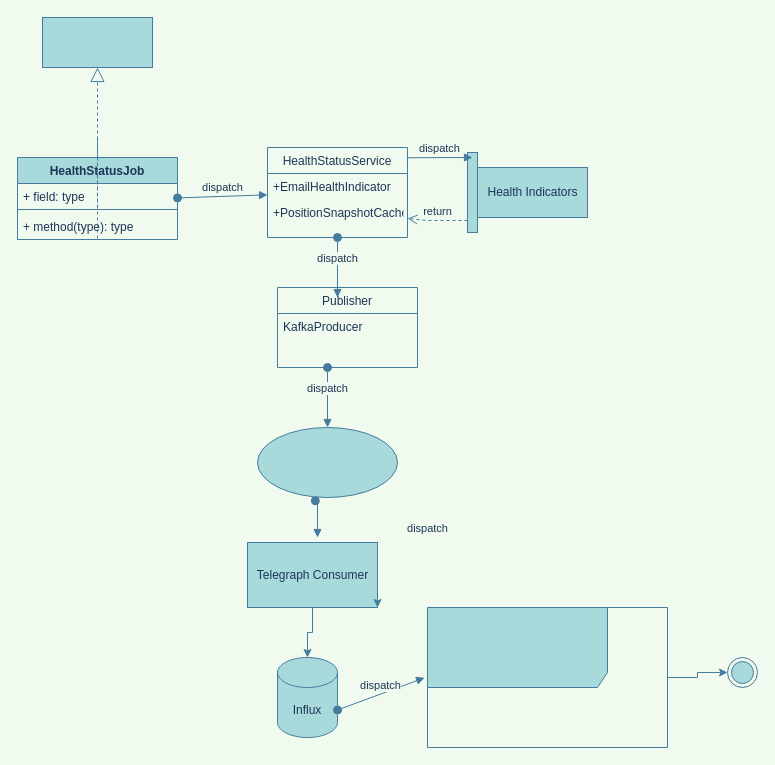
Image size: 775x765. Some labels were removed from this diagram. The centre of each missing label's shape, as x and y in pixels:
"GodZilla" belongs at [327,462].
"Grafana DashBoard" belongs at [547,677].
"«interface» Job" belongs at [97,42].
